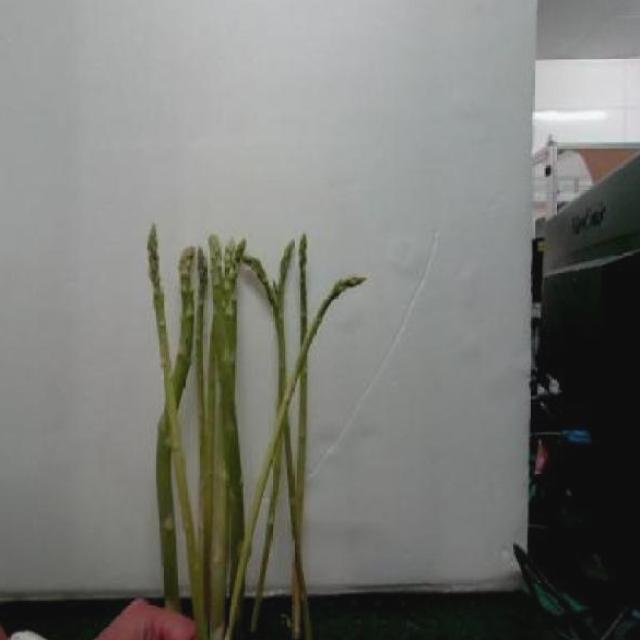aspargus: (219, 263, 375, 632), (144, 215, 212, 640)
